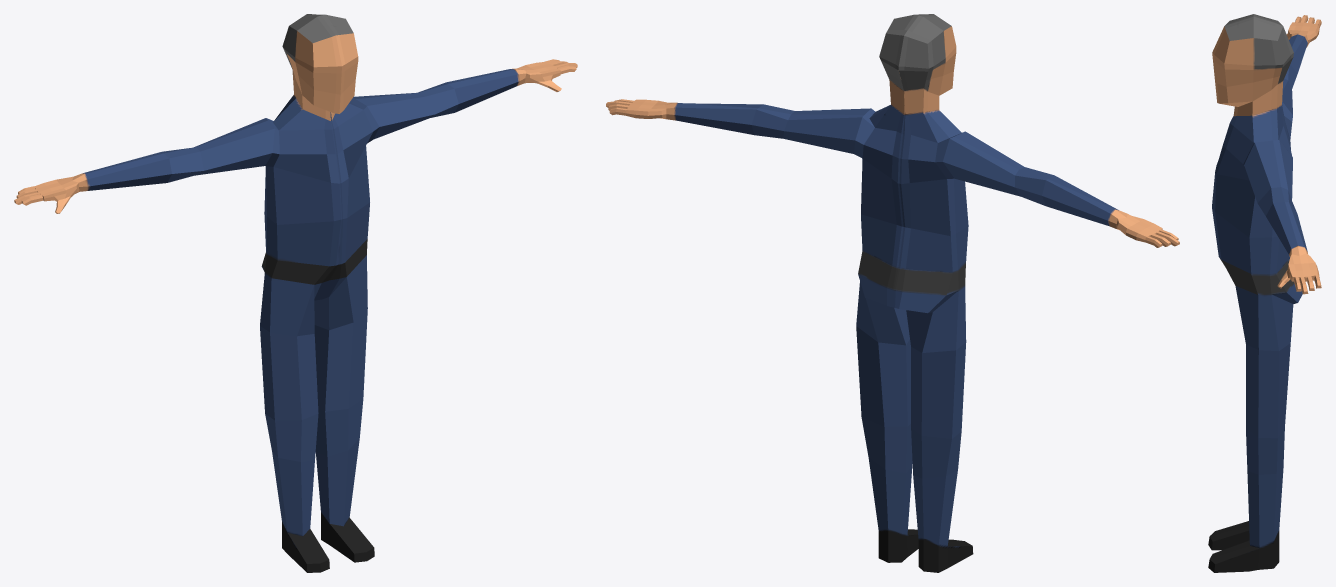
Rendered from charlesknox_model.fbx.
The picture shows the model from 3 angles, left to right: view 1: azimuth 30°, elevation 25°; view 2: azimuth 150°, elevation 25°; view 3: azimuth 270°, elevation 25°; orthographic projection.
Parts seen in each view (by area): view 1: man_Charles; view 2: man_Charles; view 3: man_Charles.
Part boxes in pixels (box(x1,y1,x2,y2)): man_Charles: box(14, 14, 577, 572); man_Charles: box(606, 14, 1179, 572); man_Charles: box(1208, 14, 1321, 572).
Size of the model in its own units: 363 by 333 by 62.84.
